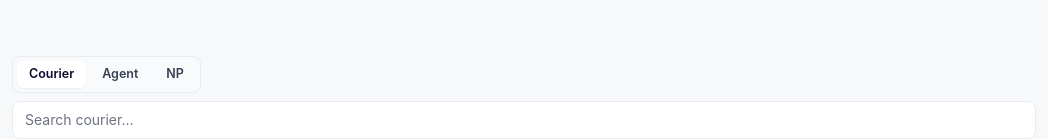
it: AssignTargetPicker › shows a No <type> match message when the filter matches nothing
(page scrolled)
Step 1. Type "zzz" into the field with placeholder "Search courier..." → (524, 120), box [12,101,1036,138]
(page scrolled)
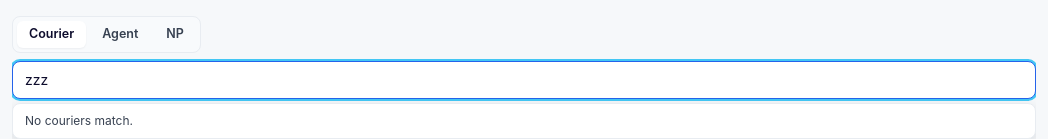
Check: the text "No couriers match." is shown, box [12,103,1036,138]
